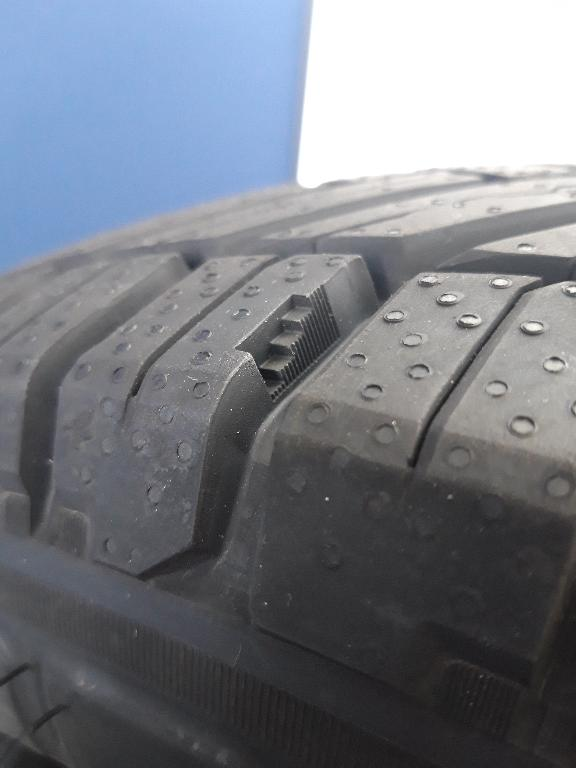temoin:100: (231, 279, 348, 407)
